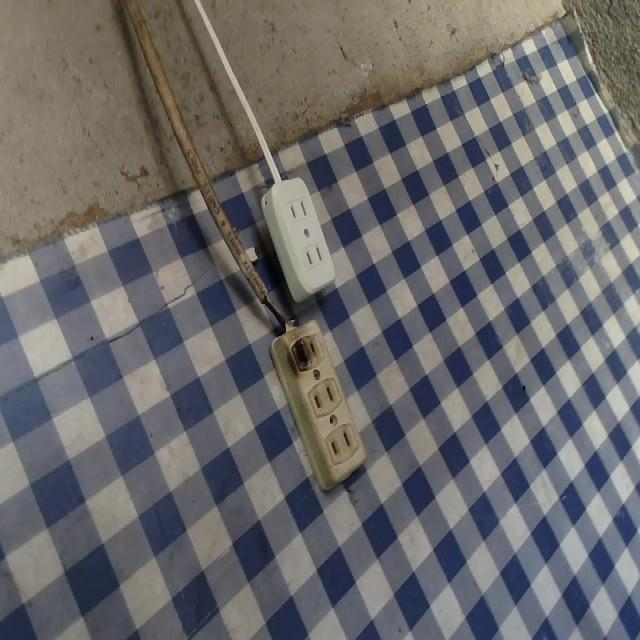-: (284, 330, 318, 382)
